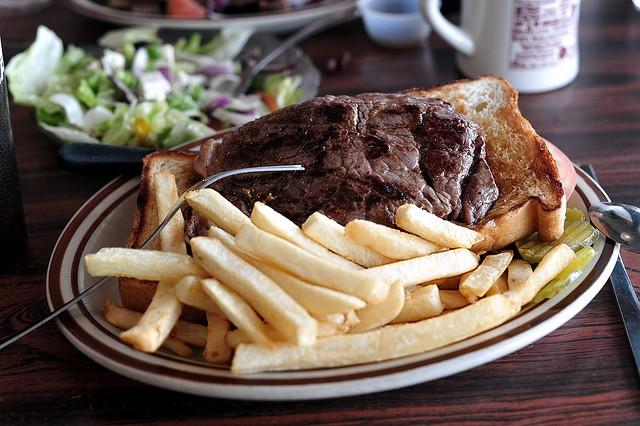onion: (100, 56, 138, 119), (47, 92, 84, 125), (137, 70, 172, 102), (174, 49, 217, 74), (212, 106, 261, 125), (155, 59, 173, 96), (223, 98, 260, 111), (256, 62, 296, 74), (200, 62, 233, 76), (207, 96, 233, 112), (174, 62, 197, 73)
